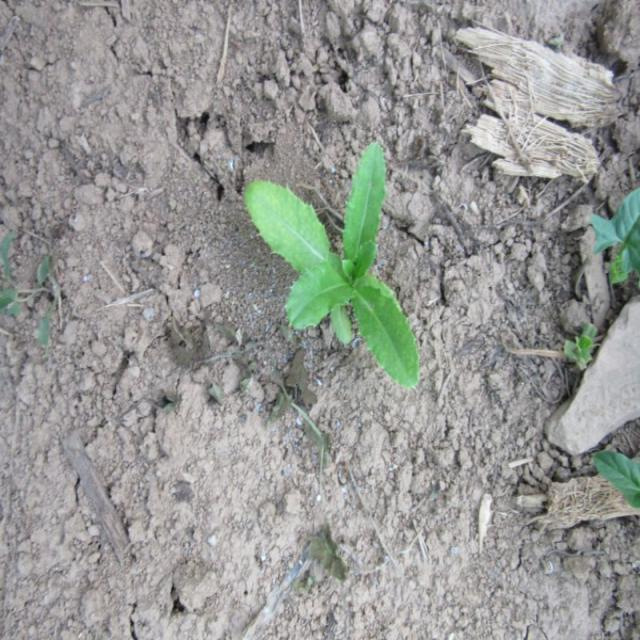cs: (245, 138, 418, 387)
